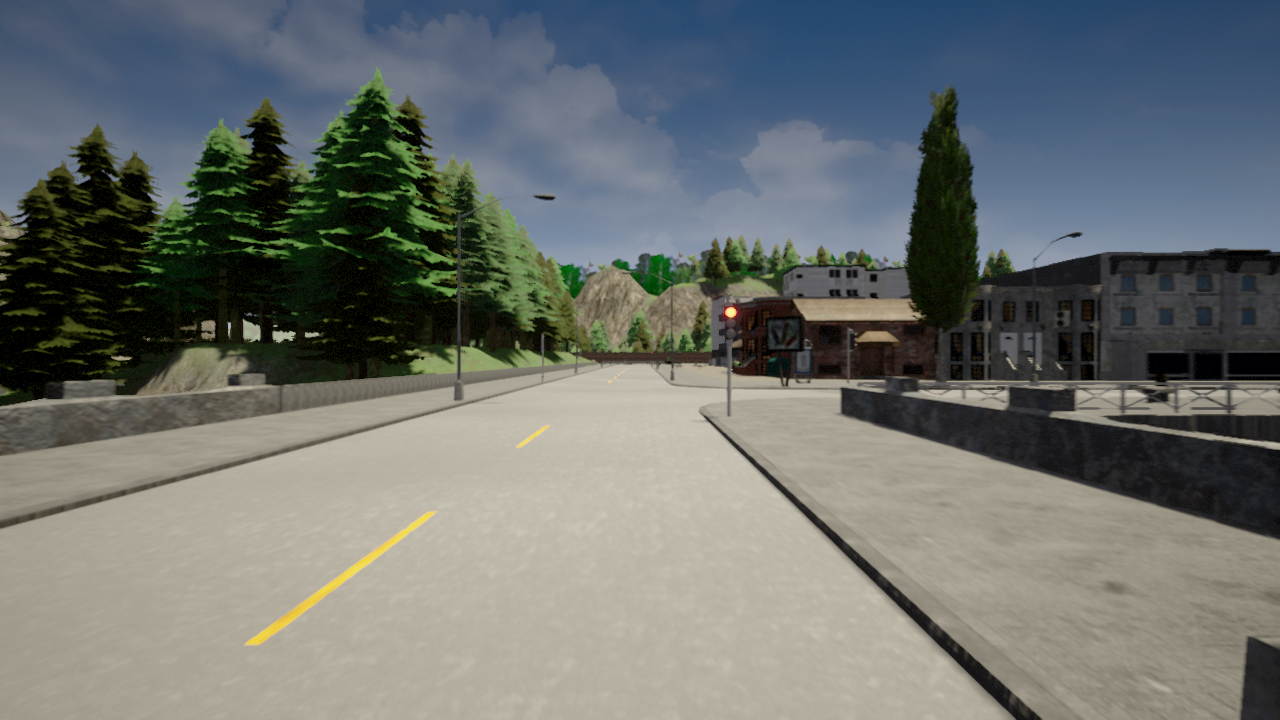red: (723, 304, 739, 338)
